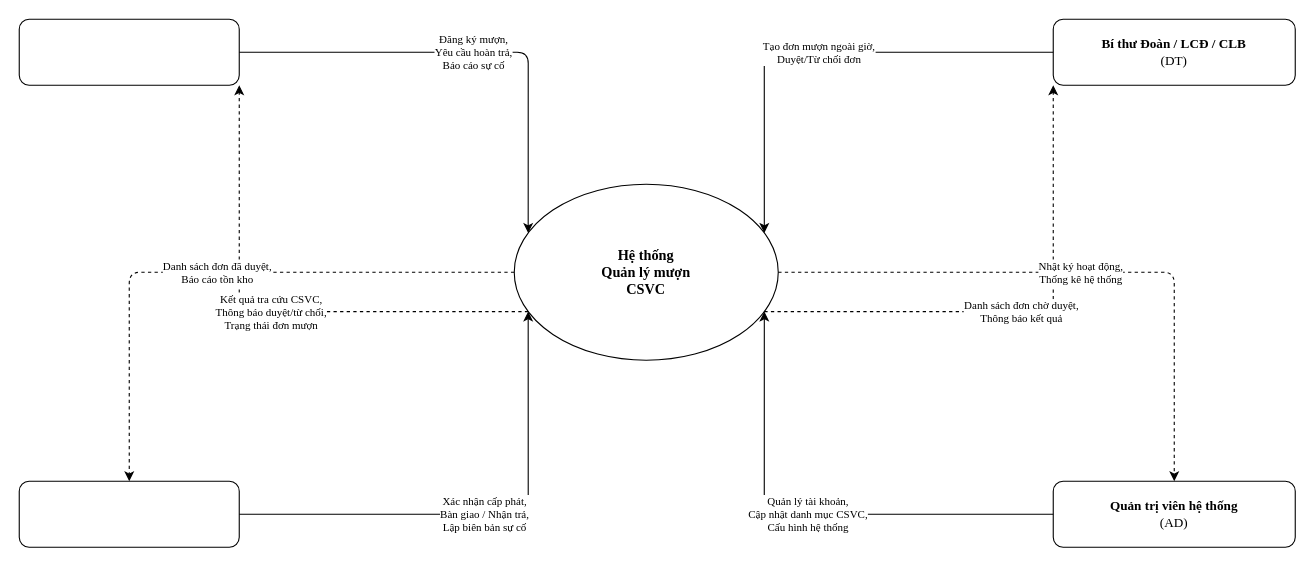
The diagram is 1315 pixels wide and 567 high, and some of its shapes have lost their labels. Here are the shapes that lost their labels. From the top down, the centre of each, then its label:
At point 128,51: "Sinh viên / Giảng viên (SV)".
At point 128,513: "Quản lý phòng CSVC (QL)".
